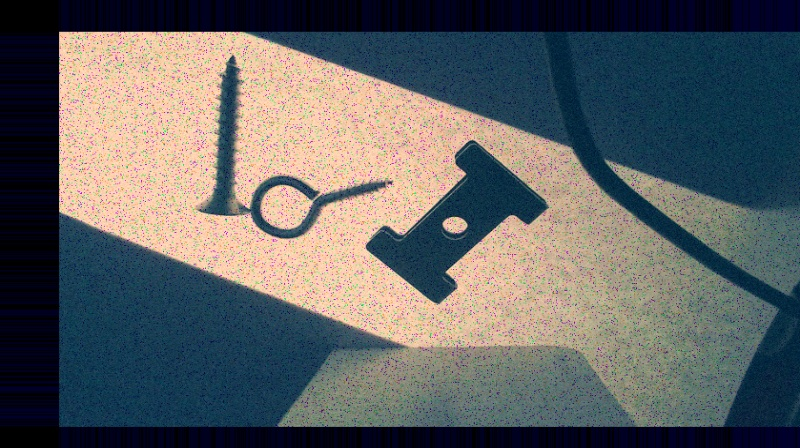O001: (248, 174, 394, 239)
O002: (366, 139, 548, 303)
S001: (189, 53, 250, 216)
